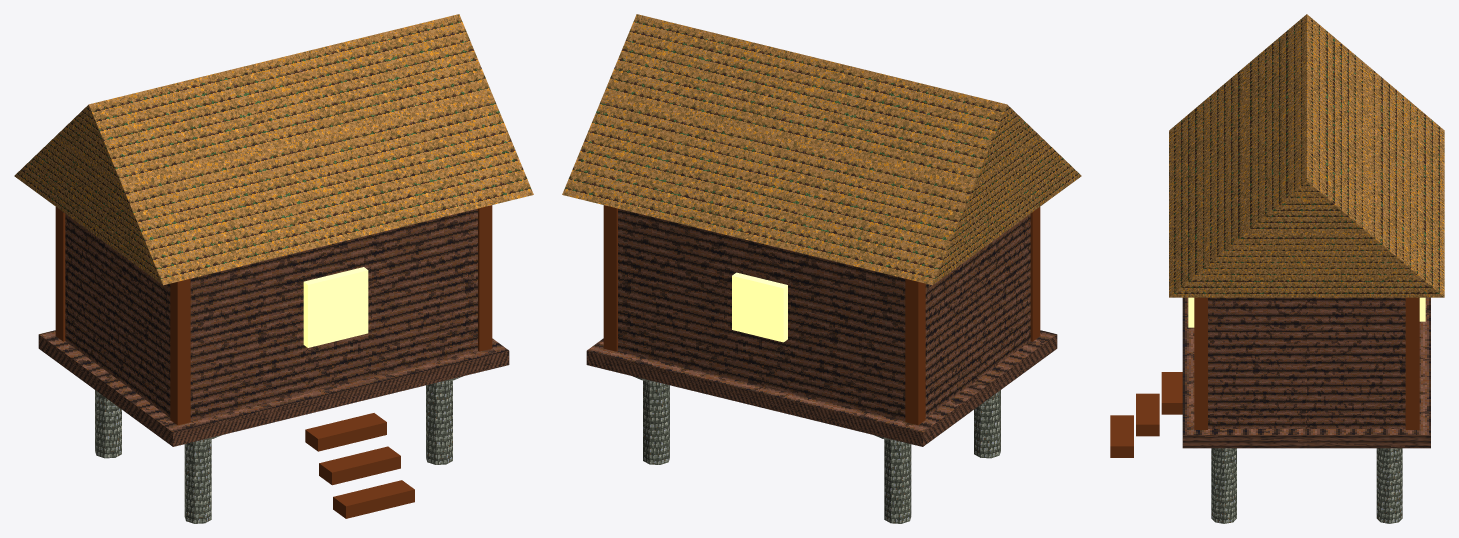
File: horreo.glb
3 views of the same model, side by side, from view 1: azimuth 30°, elevation 25°; view 2: azimuth 150°, elevation 25°; view 3: azimuth 270°, elevation 25° (orthographic). The views are drawn at different scales.
Visible parts, largest first — view 1: Horreo_Techo, Cube.001, Cube, Cube.006, Cube.002, Cylinder, Cylinder.004, Cube.004, Cube.009, Cube.007, Cube.008, Cylinder.002 (+1 smaller); view 2: Horreo_Techo, Cube.001, Cube, Cube.010, Cube.003, Cylinder.002, Cylinder.006, Cube.005, Cylinder, Cube.002; view 3: Horreo_Techo, Cube.001, Cube, Cylinder.006, Cube.005, Cylinder.004, Cube.004, Cube.008, Cube.009, Cube.007.
Part boxes in pixels (bbox=[...]): Horreo_Techo: bbox=[14, 14, 533, 285]; Cube.001: bbox=[65, 208, 477, 420]; Cube: bbox=[38, 330, 509, 446]; Cube.006: bbox=[303, 267, 368, 347]; Cube.002: bbox=[170, 278, 190, 425]; Cylinder: bbox=[184, 439, 211, 523]; Cylinder.004: bbox=[426, 380, 452, 464]; Cube.004: bbox=[478, 205, 492, 351]; Cube.009: bbox=[333, 480, 414, 518]; Cube.007: bbox=[305, 413, 386, 451]; Cube.008: bbox=[319, 446, 400, 485]; Cylinder.002: bbox=[95, 390, 121, 458]; Horreo_Techo: bbox=[562, 14, 1081, 285]; Cube.001: bbox=[618, 208, 1030, 420]; Cube: bbox=[586, 330, 1057, 446]; Cube.010: bbox=[732, 272, 787, 342]; Cube.003: bbox=[905, 278, 925, 425]; Cylinder.002: bbox=[884, 439, 911, 523]; Cylinder.006: bbox=[643, 380, 669, 464]; Cube.005: bbox=[603, 205, 617, 351]; Cylinder: bbox=[974, 390, 1000, 458]; Cube.002: bbox=[1030, 207, 1040, 341]; Horreo_Techo: bbox=[1169, 14, 1444, 297]; Cube.001: bbox=[1208, 297, 1405, 428]; Cube: bbox=[1182, 297, 1430, 448]; Cylinder.006: bbox=[1376, 448, 1402, 523]; Cube.005: bbox=[1405, 297, 1419, 429]; Cylinder.004: bbox=[1211, 448, 1236, 523]; Cube.004: bbox=[1194, 297, 1207, 429]; Cube.008: bbox=[1136, 393, 1159, 436]; Cube.009: bbox=[1110, 415, 1133, 457]; Cube.007: bbox=[1161, 372, 1182, 414].
Bounding box in the file's own units: 4.3 × 4.4 × 3.64.
Materials: 5 (3 with a texture image).
